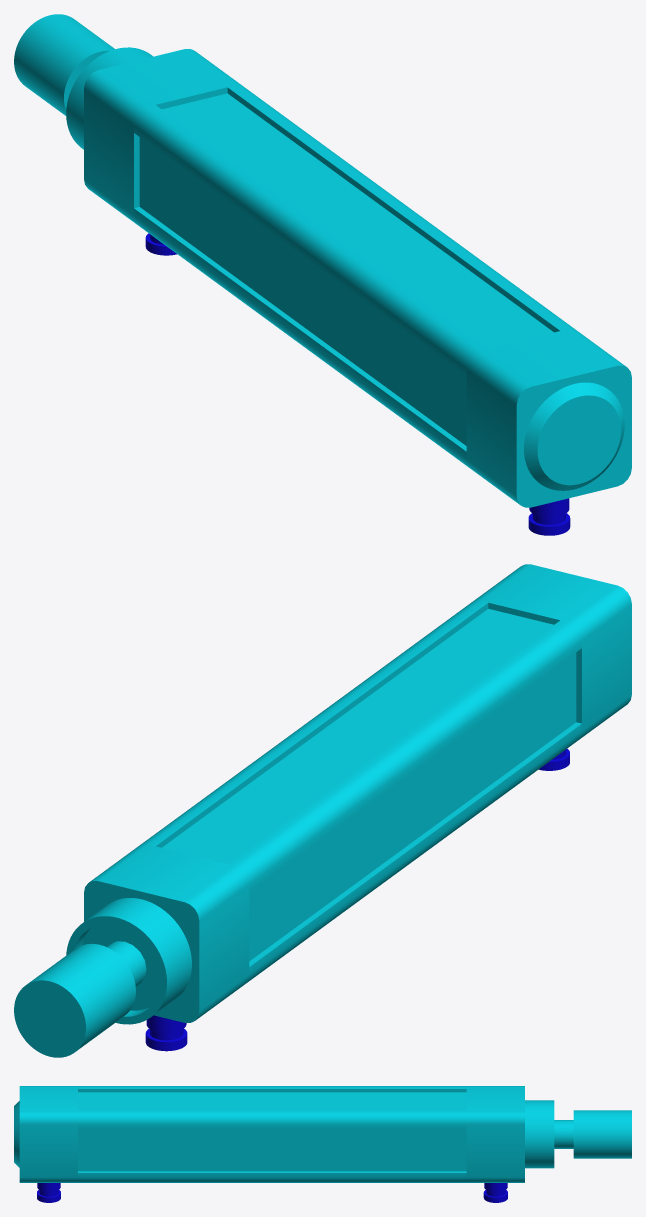
File: Piston_Medium.fbx
3 renders of one model, top to bottom at view 1: azimuth 30°, elevation 25°; view 2: azimuth 150°, elevation 25°; view 3: azimuth 270°, elevation 25°, orthographic. The views are drawn at different scales.
Visible parts, largest first — view 1: Body, Cylinder, RacorA; view 2: Body, Cylinder, RacorB; view 3: Body, Cylinder, RacorB, RacorA.
Boxes of the visible parts, x1=… form: Body: x1=66, y1=47, x2=631, y2=507; Cylinder: x1=14, y1=14, x2=114, y2=115; RacorA: x1=528, y1=498, x2=570, y2=535; Body: x1=66, y1=564, x2=631, y2=1024; Cylinder: x1=14, y1=941, x2=146, y2=1057; RacorB: x1=145, y1=1015, x2=187, y2=1051; Body: x1=14, y1=1086, x2=554, y2=1182; Cylinder: x1=554, y1=1110, x2=631, y2=1158; RacorB: x1=483, y1=1183, x2=507, y2=1202; RacorA: x1=37, y1=1183, x2=60, y2=1202.
Bounding box in the file's own units: 0.4 × 0.56 × 3.18.
